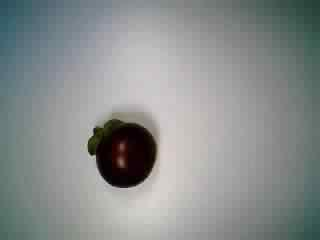mangosteen: (84, 113, 159, 189)
